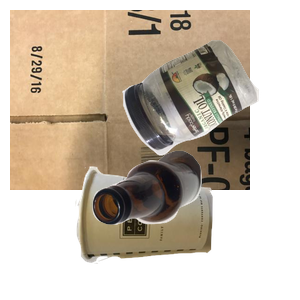cardboard: (10, 10, 250, 190)
glass: (90, 148, 300, 300)
plastic: (120, 37, 300, 185)
trash: (73, 164, 278, 300)
